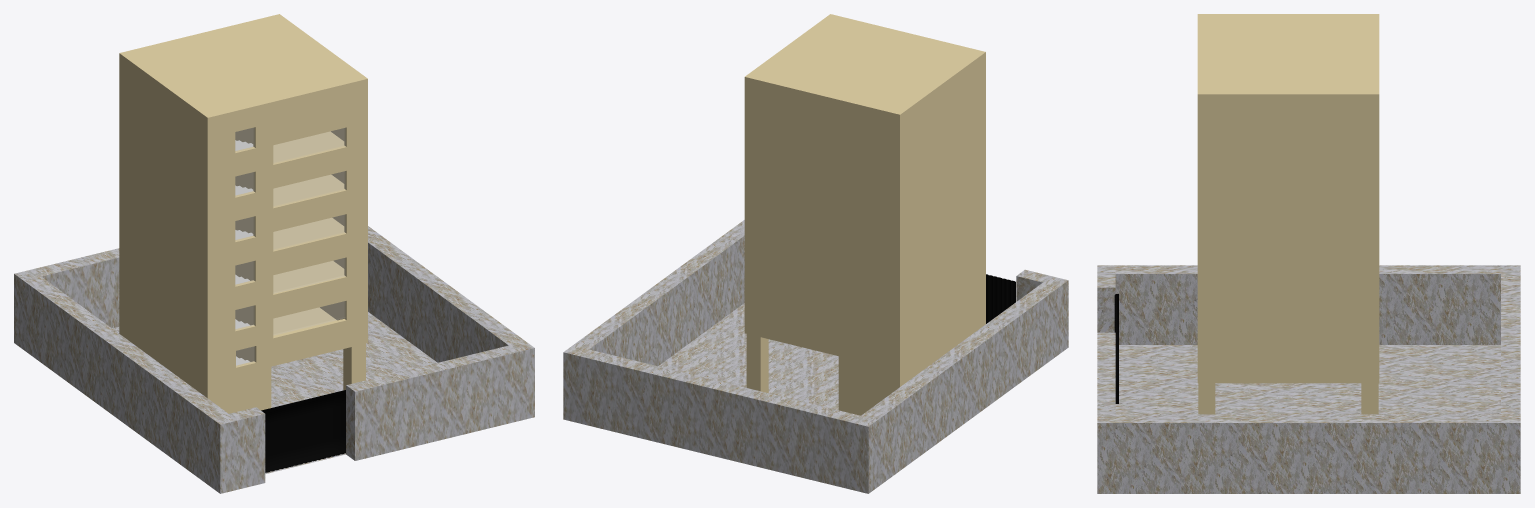
File: nariman.glb
3 views of the same model, side by side, from view 1: azimuth 30°, elevation 25°; view 2: azimuth 150°, elevation 25°; view 3: azimuth 270°, elevation 25° (orthographic). The views are drawn at different scales.
Parts seen in each view (by area): view 1: Plane.006, Plane.005, stairs; view 2: Plane.006; view 3: Plane.006.
Boxes of the visible parts, bbox=[...] form: Plane.006: bbox=[14, 14, 534, 493]; Plane.005: bbox=[235, 128, 345, 366]; stairs: bbox=[235, 140, 253, 365]; Plane.006: bbox=[563, 14, 1068, 493]; Plane.006: bbox=[1097, 14, 1520, 493].
Size of the model in its own units: 13.41 by 13.5 by 15.22.
5 materials, 1 textured.
